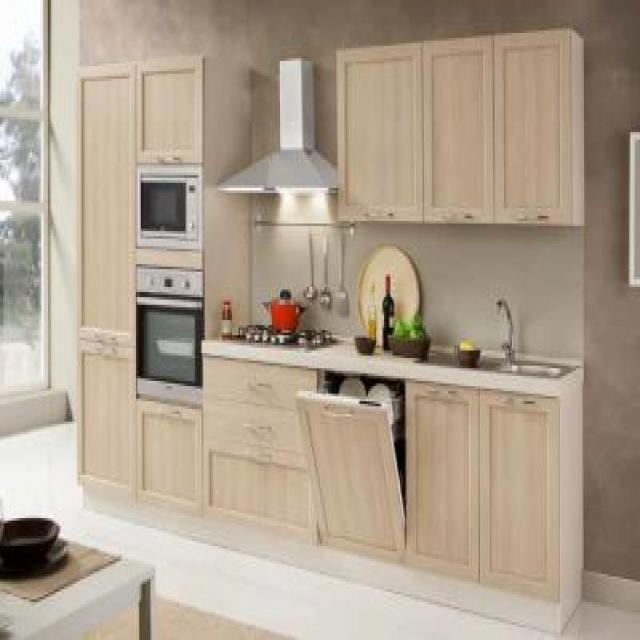dishwasher: (292, 363, 410, 561)
